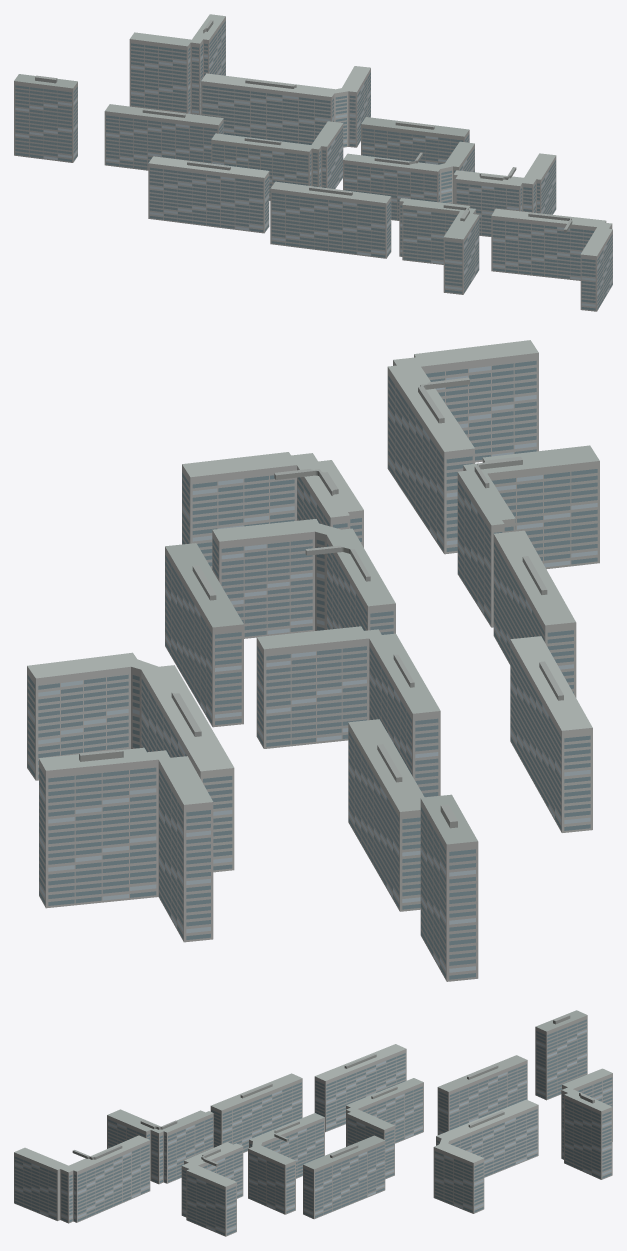
The model's file is apt-a15681503.glb.
3 renders of one model, top to bottom at view 1: azimuth 30°, elevation 25°; view 2: azimuth 150°, elevation 25°; view 3: azimuth 270°, elevation 25°, orthographic. The views are drawn at different scales.
Parts seen in each view (by area): view 1: apt-a15681503; view 2: apt-a15681503; view 3: apt-a15681503.
Part boxes in pixels (<box>): apt-a15681503: <box>14,14,612,311</box>; apt-a15681503: <box>27,340,599,981</box>; apt-a15681503: <box>14,1010,612,1236</box>.
Bounding box in the file's own units: 259 × 55 × 416.
